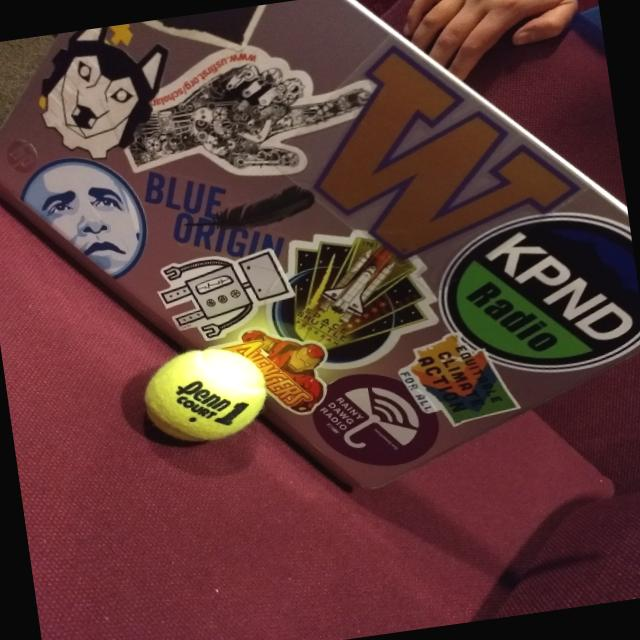Tennis Ball: (138, 342, 272, 446)
